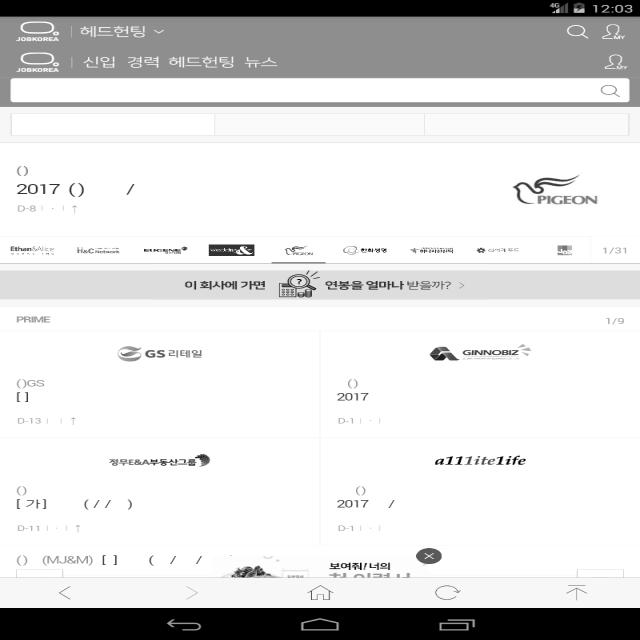EditText: (6, 75, 634, 105)
ImageButton: (12, 48, 66, 72), (13, 20, 63, 42), (299, 583, 342, 603), (596, 49, 634, 71), (50, 581, 86, 603), (558, 581, 594, 603), (432, 581, 466, 603), (562, 21, 592, 41), (602, 20, 628, 42), (178, 585, 205, 602)
ImageView: (510, 172, 577, 206), (202, 239, 266, 257), (275, 276, 321, 298), (110, 345, 170, 361), (429, 346, 464, 366), (552, 243, 580, 256)
TextView: (82, 51, 292, 72), (329, 274, 466, 294), (429, 451, 538, 467), (79, 24, 172, 42), (178, 275, 267, 293), (13, 177, 92, 197), (103, 453, 188, 469), (329, 486, 387, 508), (36, 552, 110, 566), (334, 379, 372, 405)
